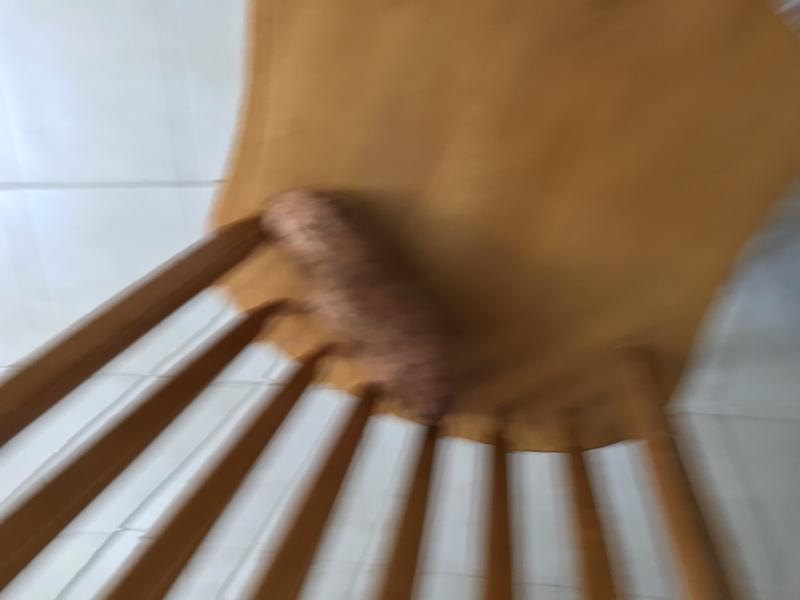sweet_potato: (254, 178, 466, 437)
